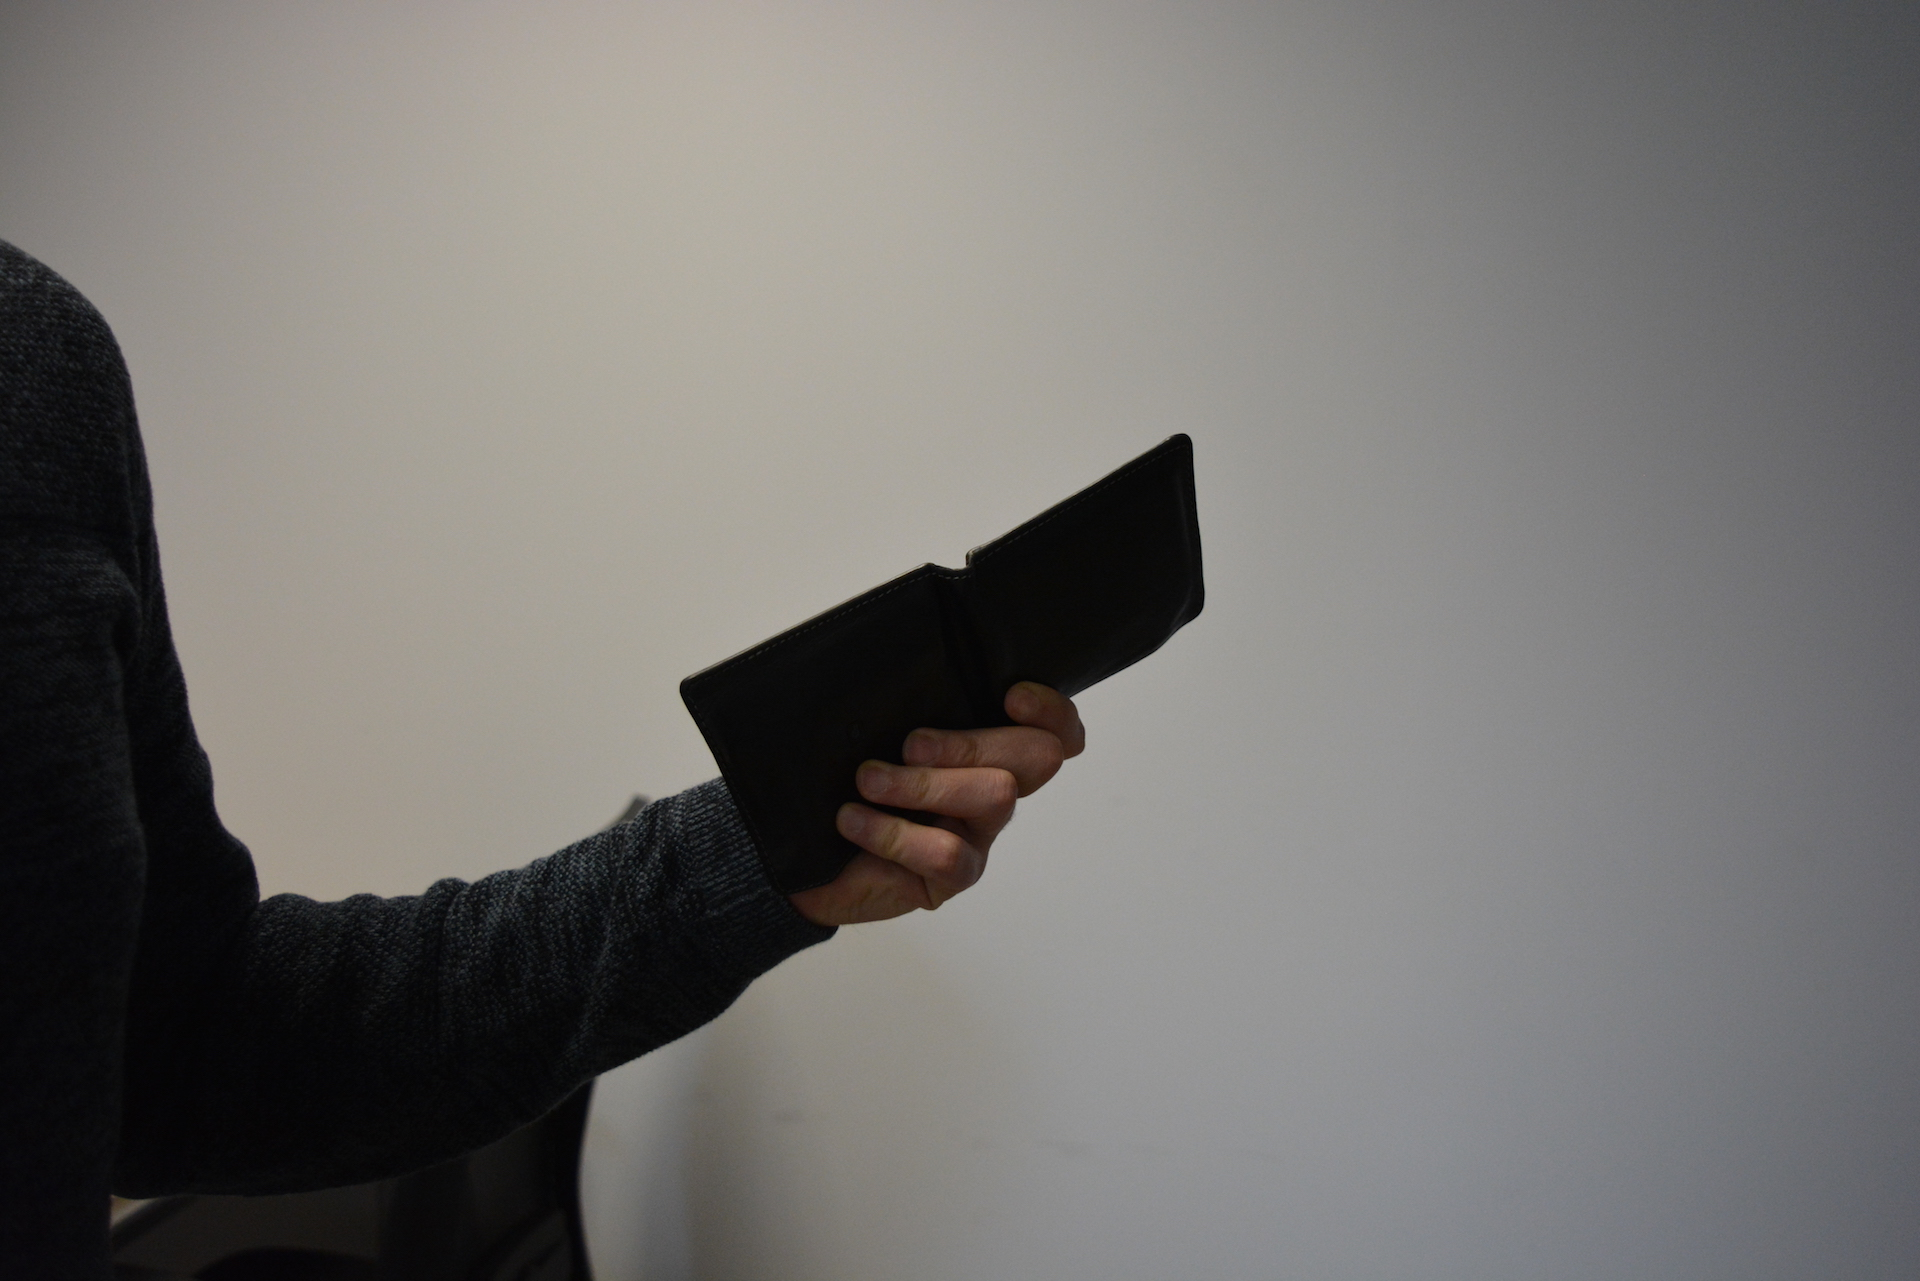monedero: (676, 430, 1207, 904)
